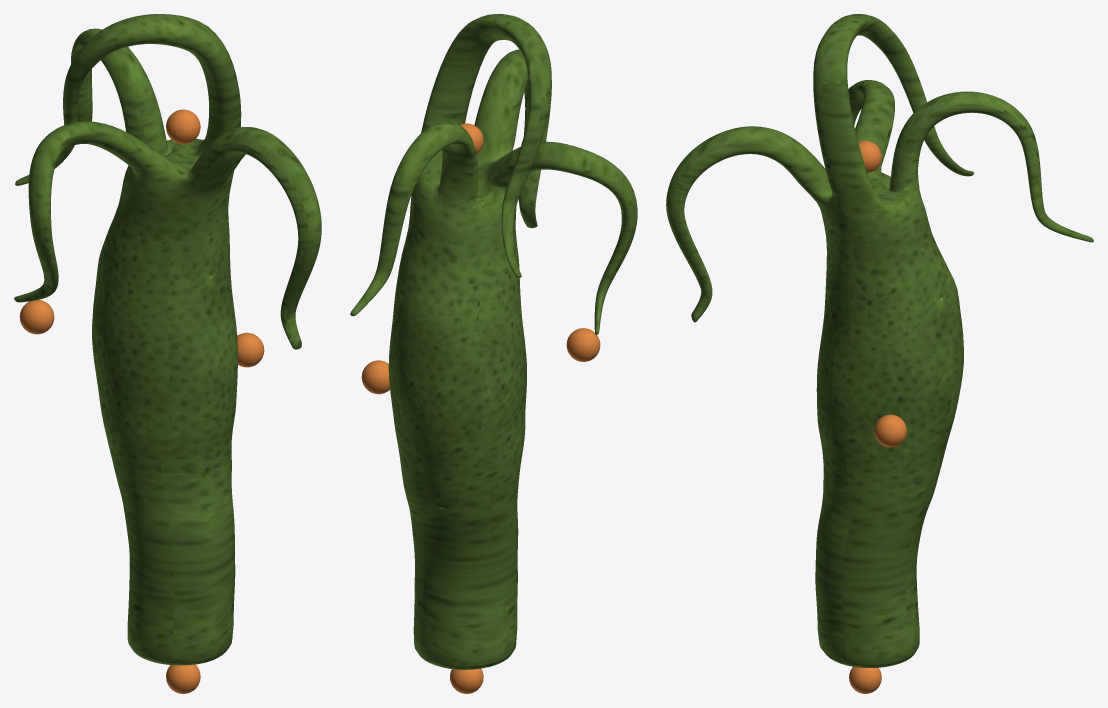
3 views of the same model, side by side, from view 1: azimuth 30°, elevation 25°; view 2: azimuth 150°, elevation 25°; view 3: azimuth 270°, elevation 25° (orthographic). The views are drawn at different scales.
Parts seen in each view (by area): view 1: Sphere003, Sphere003_1; view 2: Sphere003, Sphere003_1; view 3: Sphere003, Sphere003_1.
Boxes of the visible parts, x1=… form: Sphere003: x1=14, y1=14, x2=321, y2=665; Sphere003_1: x1=19, y1=109, x2=264, y2=693; Sphere003: x1=350, y1=14, x2=637, y2=669; Sphere003_1: x1=361, y1=123, x2=600, y2=693; Sphere003: x1=666, y1=14, x2=1093, y2=667; Sphere003_1: x1=849, y1=140, x2=906, y2=693.
Size of the model in its own units: 19.93 by 51.87 by 30.74.
Materials: 2 (1 with a texture image).
